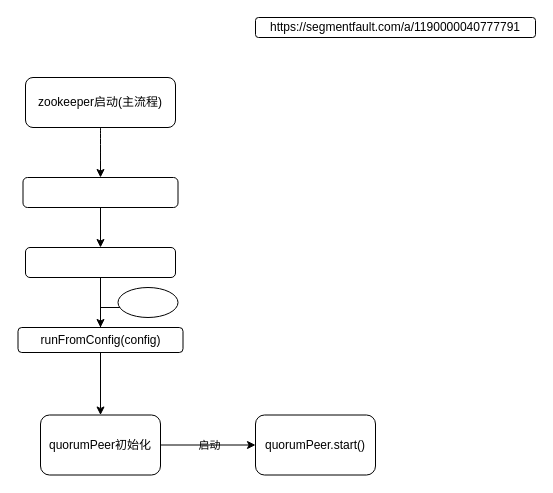
Some shapes in this 553 by 493 pixel diagram are drawn without their labels. Here are the shapes that lost their labels. From the top down, the box of each, then its label:
(22, 176, 178, 208): QuorumPeerMain
(24, 246, 176, 278): main.initializeAndRun
(117, 286, 178, 318): 集群分布式
